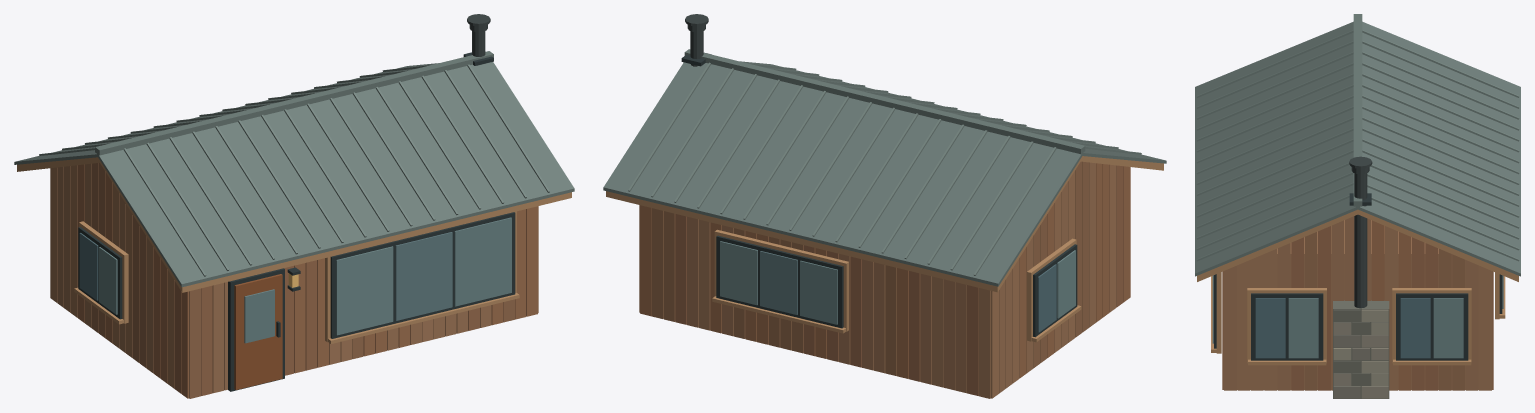
File: island_cabin.glb
The picture shows the model from 3 angles, left to right: view 1: azimuth 30°, elevation 25°; view 2: azimuth 150°, elevation 25°; view 3: azimuth 270°, elevation 25°; orthographic projection. The views are drawn at different scales.
Parts seen in each view (by area): view 1: KitIslandCabinRoofFinish, KitIslandCabinDetails, KitIslandCabinSiding; view 2: KitIslandCabinRoofFinish, KitIslandCabinSiding, KitIslandCabinDetails; view 3: KitIslandCabinRoofFinish, KitIslandCabinDetails, KitIslandCabinSiding.
Part boxes in pixels (box(x1,y1,x2,y2)): KitIslandCabinRoofFinish: box(14, 51, 574, 287); KitIslandCabinDetails: box(17, 14, 571, 391); KitIslandCabinSiding: box(50, 163, 538, 398); KitIslandCabinRoofFinish: box(603, 49, 1166, 286); KitIslandCabinSiding: box(639, 161, 1130, 398); KitIslandCabinDetails: box(606, 14, 1163, 342); KitIslandCabinRoofFinish: box(1195, 14, 1520, 276); KitIslandCabinDetails: box(1197, 156, 1518, 398); KitIslandCabinSiding: box(1222, 216, 1493, 390).
Size of the model in its own units: 8.26 by 4.81 by 6.07.
